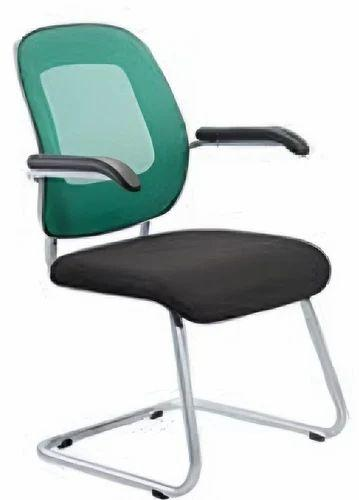chair: (0, 9, 359, 500)
